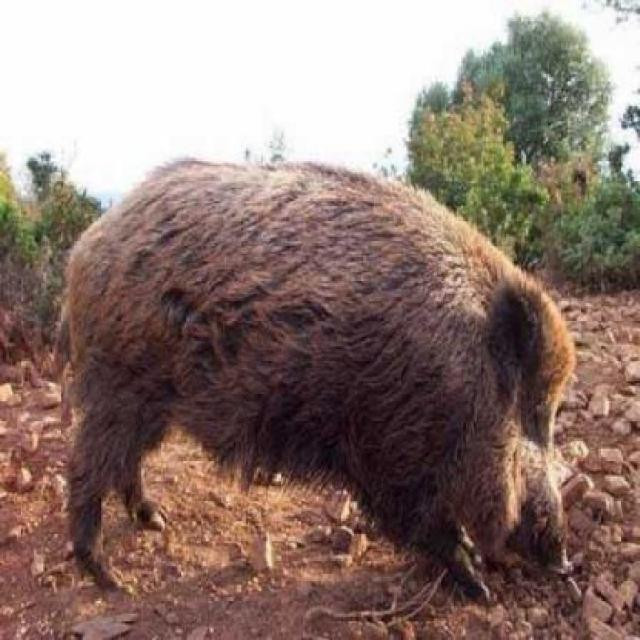pig: (36, 160, 600, 622)
